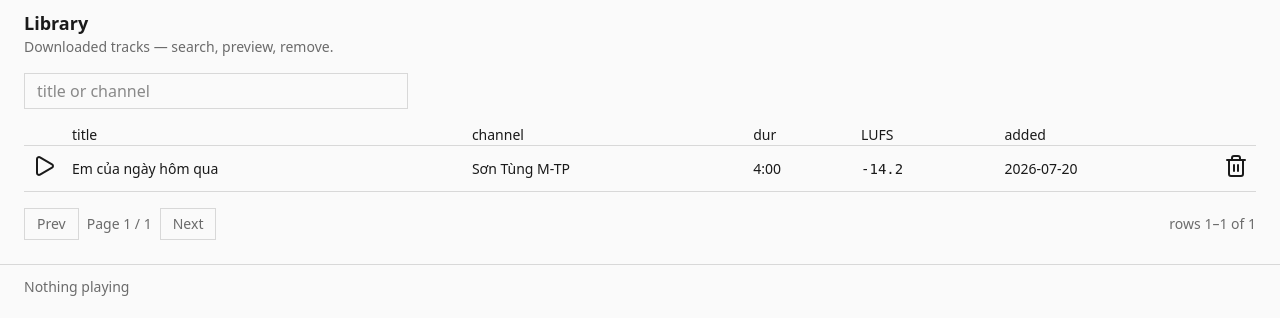
Test: Library › loads the transport and shows the title when a row's play button is clicked
Expected: the text "Em của ngày hôm qua" is shown, [64,146,464,192]
What coordinates should you click on to do the following:
click the button named "Play Em của ngày hôm qua"
I would click on:
 (44, 166)
Its box is [32,154,56,178].
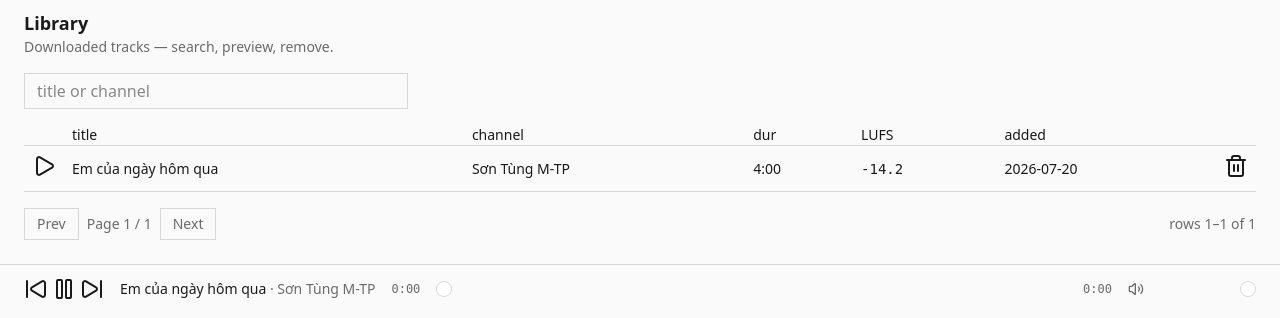
Result: the button named "Pause" is shown at [52,277,76,301]
Result: the text "Em của ngày hôm qua" is shown at [120,279,266,298]
